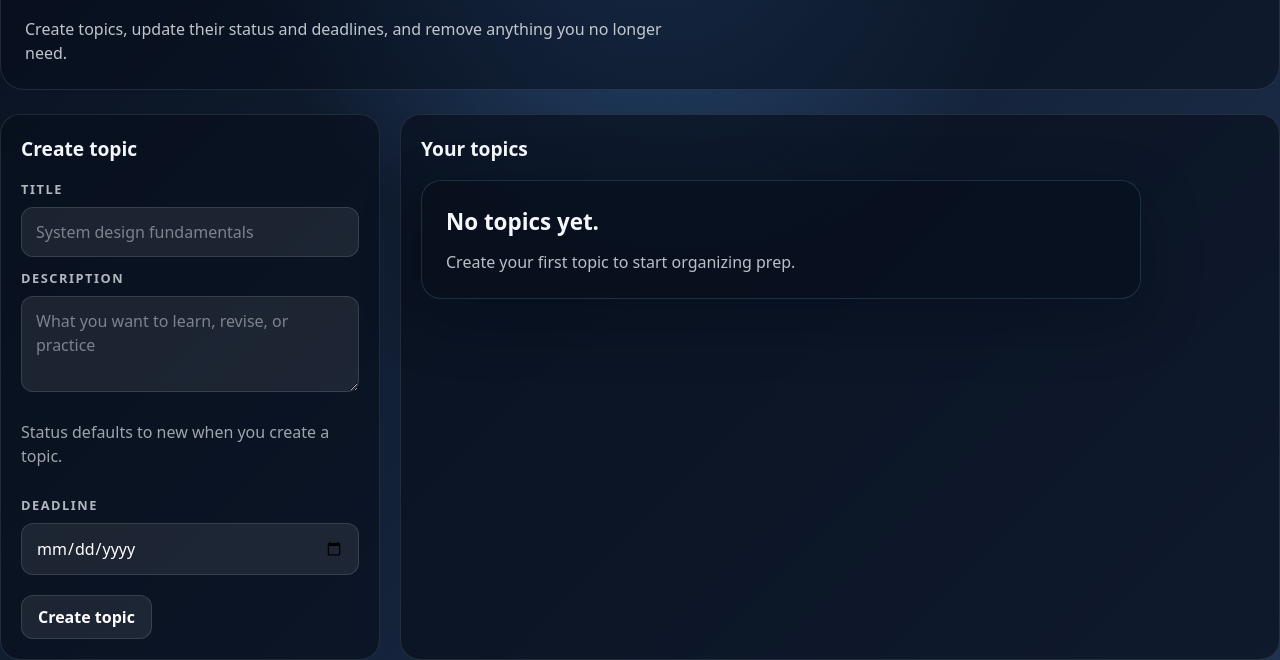
Test: TopicsPage › shows a validation error when the topic title is missing
(page scrolled)
Click the button "Create topic" at (86, 617), box top-left (21, 595), bottom-right (152, 639)
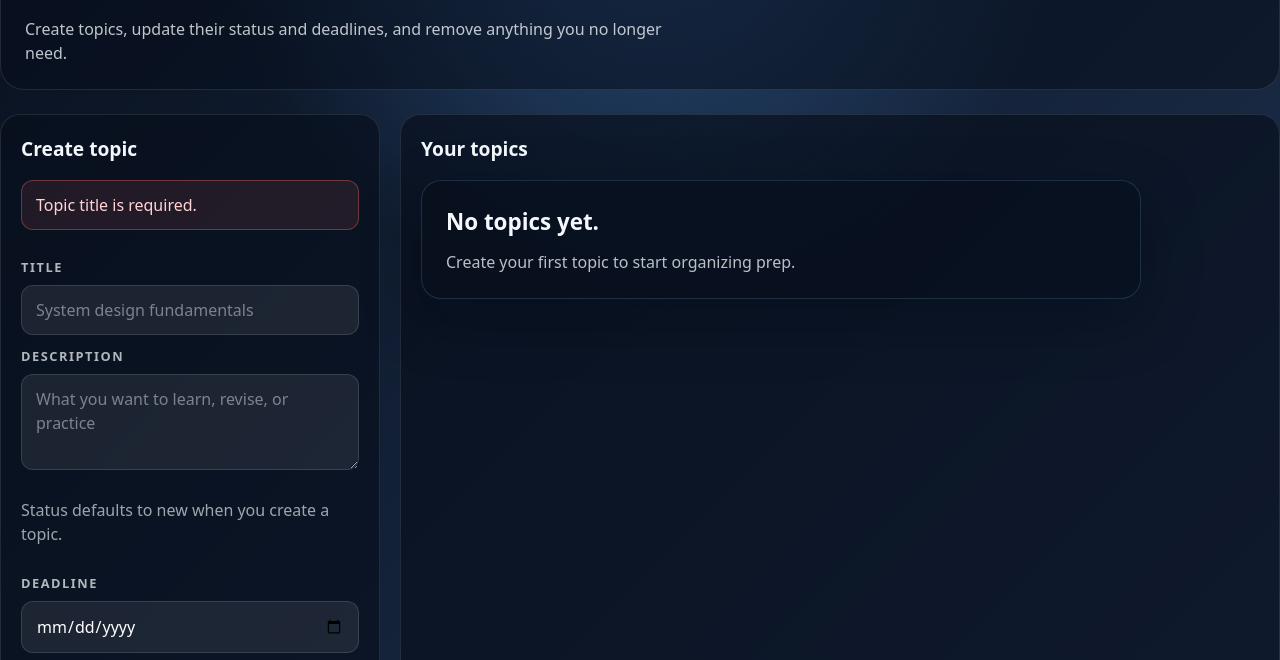
Result: the message reads "Topic title is required." at top-left (36, 194), bottom-right (197, 216)
